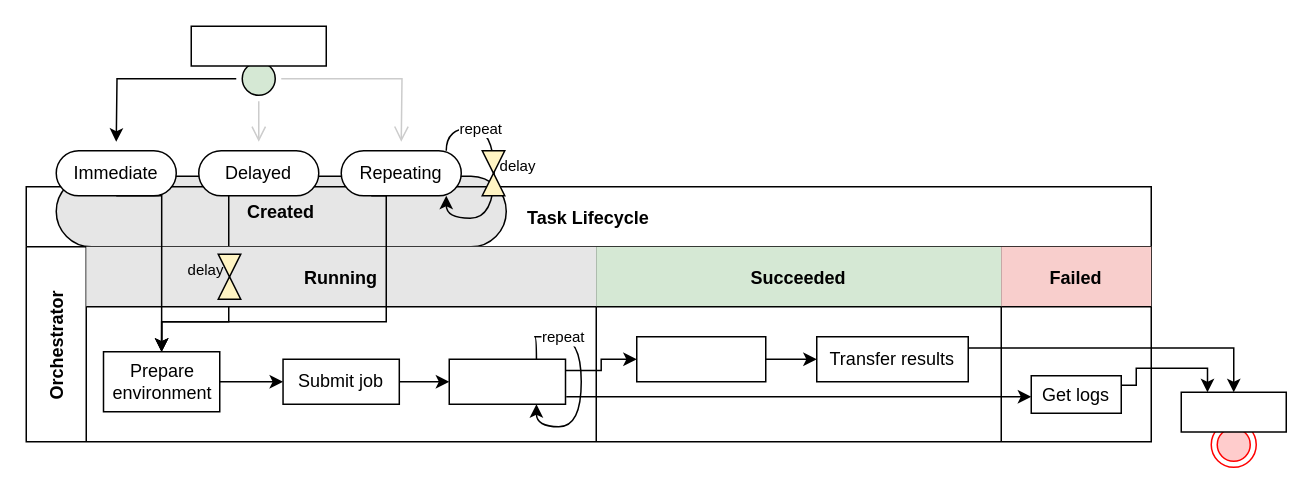
The diagram is 1313 pixels wide and 494 high, and some of its shapes have lost their labels. Here are the shapes that lost their labels. From the top down, the centre of each, then its label:
the point at 258,45: Submission
the point at 700,358: Check results
the point at 507,381: Poll status
the point at 1233,411: Completion
